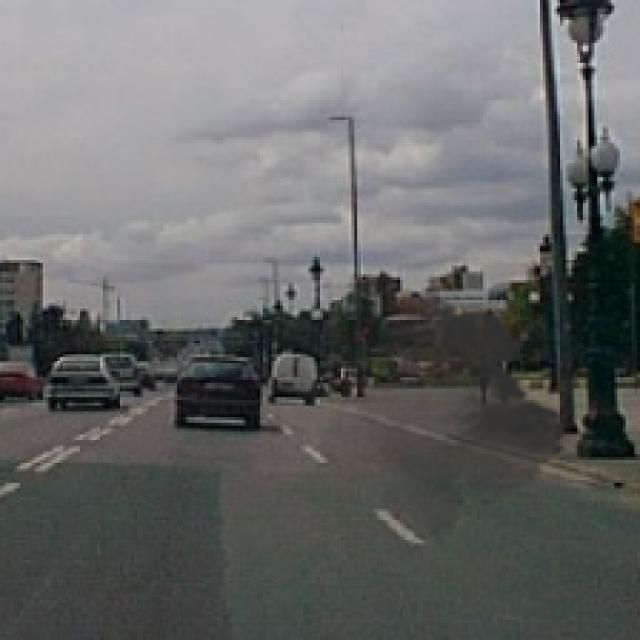smoke: (312, 288, 577, 543)
